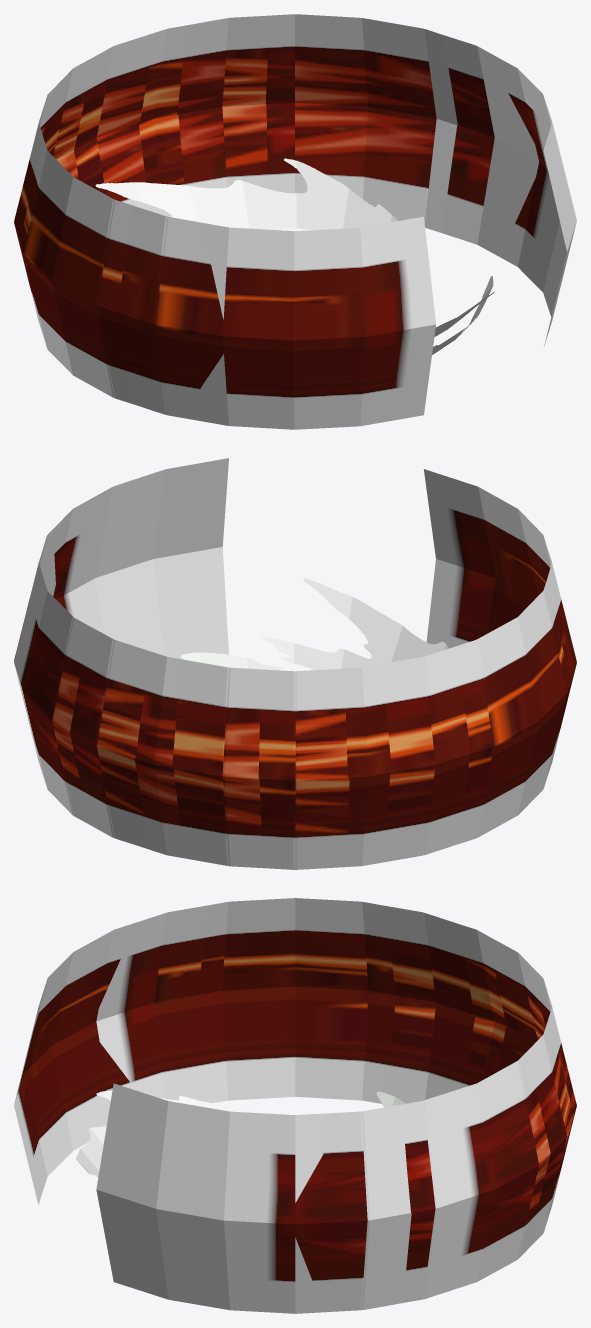
The model's file is Eff_Mer_Isis_attack2.FBX.
3 renders of one model, top to bottom at view 1: azimuth 30°, elevation 25°; view 2: azimuth 150°, elevation 25°; view 3: azimuth 270°, elevation 25°, orthographic.
Parts seen in each view (by area): view 1: Eff_trail_thick01, Eff_trail_thick002, Eff_wave_rot_Bottom; view 2: Eff_trail_thick002, Eff_trail_thick01, Eff_wave_rot_Bottom; view 3: Eff_trail_thick01, Eff_trail_thick002, Eff_wave_rot_Bottom.
Boxes of the visible parts, x1,y1,x2,y2 form: Eff_trail_thick01: [14, 14, 538, 429]; Eff_trail_thick002: [14, 14, 576, 425]; Eff_wave_rot_Bottom: [95, 158, 494, 354]; Eff_trail_thick002: [14, 458, 576, 869]; Eff_trail_thick01: [14, 469, 576, 869]; Eff_wave_rot_Bottom: [181, 578, 448, 670]; Eff_trail_thick01: [14, 898, 576, 1313]; Eff_trail_thick002: [96, 898, 573, 1313]; Eff_wave_rot_Bottom: [76, 1091, 405, 1177].
Bounding box in the file's own units: 3.35 × 1.3 × 3.35.
